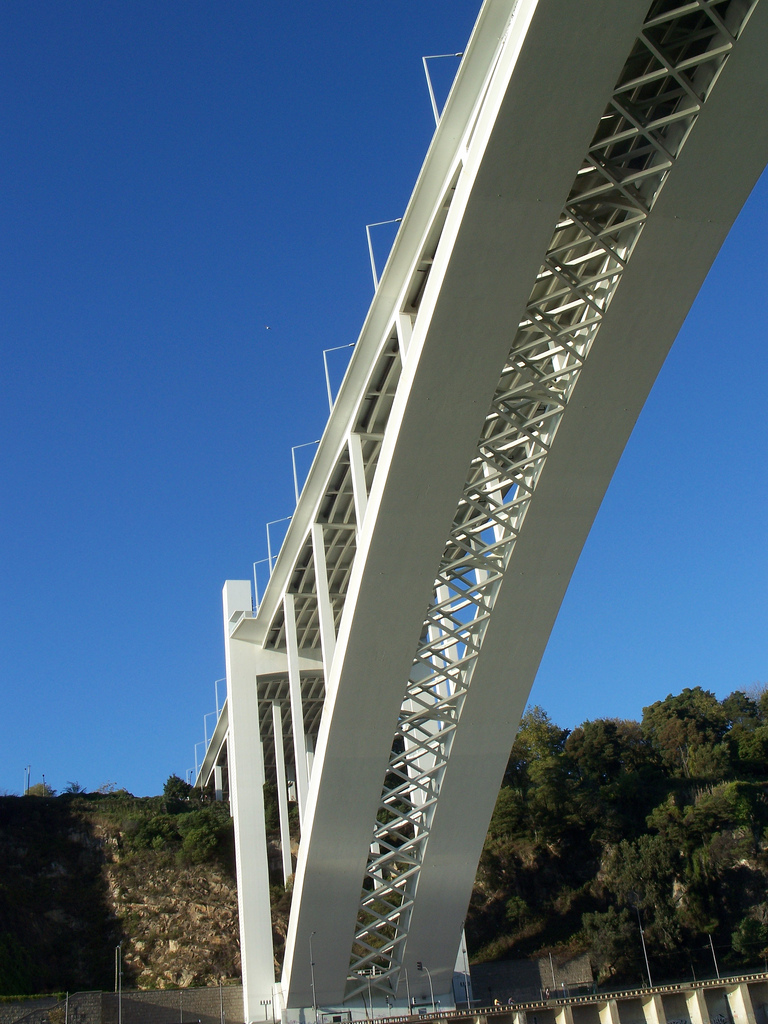arrabida: (183, 0, 767, 1023)
